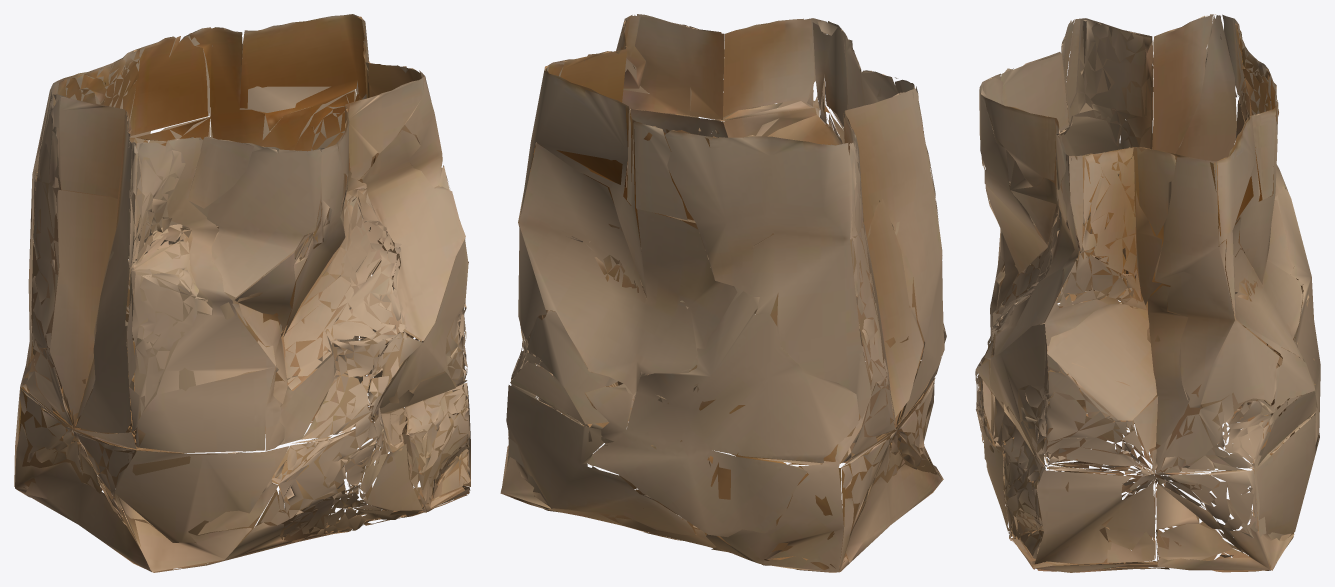
File: bags_lod0.glb
3 renders of one model, left to right at view 1: azimuth 30°, elevation 25°; view 2: azimuth 150°, elevation 25°; view 3: azimuth 270°, elevation 25°, orthographic. The views are drawn at different scales.
Visible parts, largest first — view 1: node_0; view 2: node_0; view 3: node_0.
Part boxes in pixels (x1=…): node_0: x1=14, y1=14, x2=470, y2=572; node_0: x1=500, y1=14, x2=946, y2=572; node_0: x1=975, y1=14, x2=1320, y2=572.
Size of the model in its own units: 0.8975 by 1 by 0.7757.
1 material, 1 textured.
